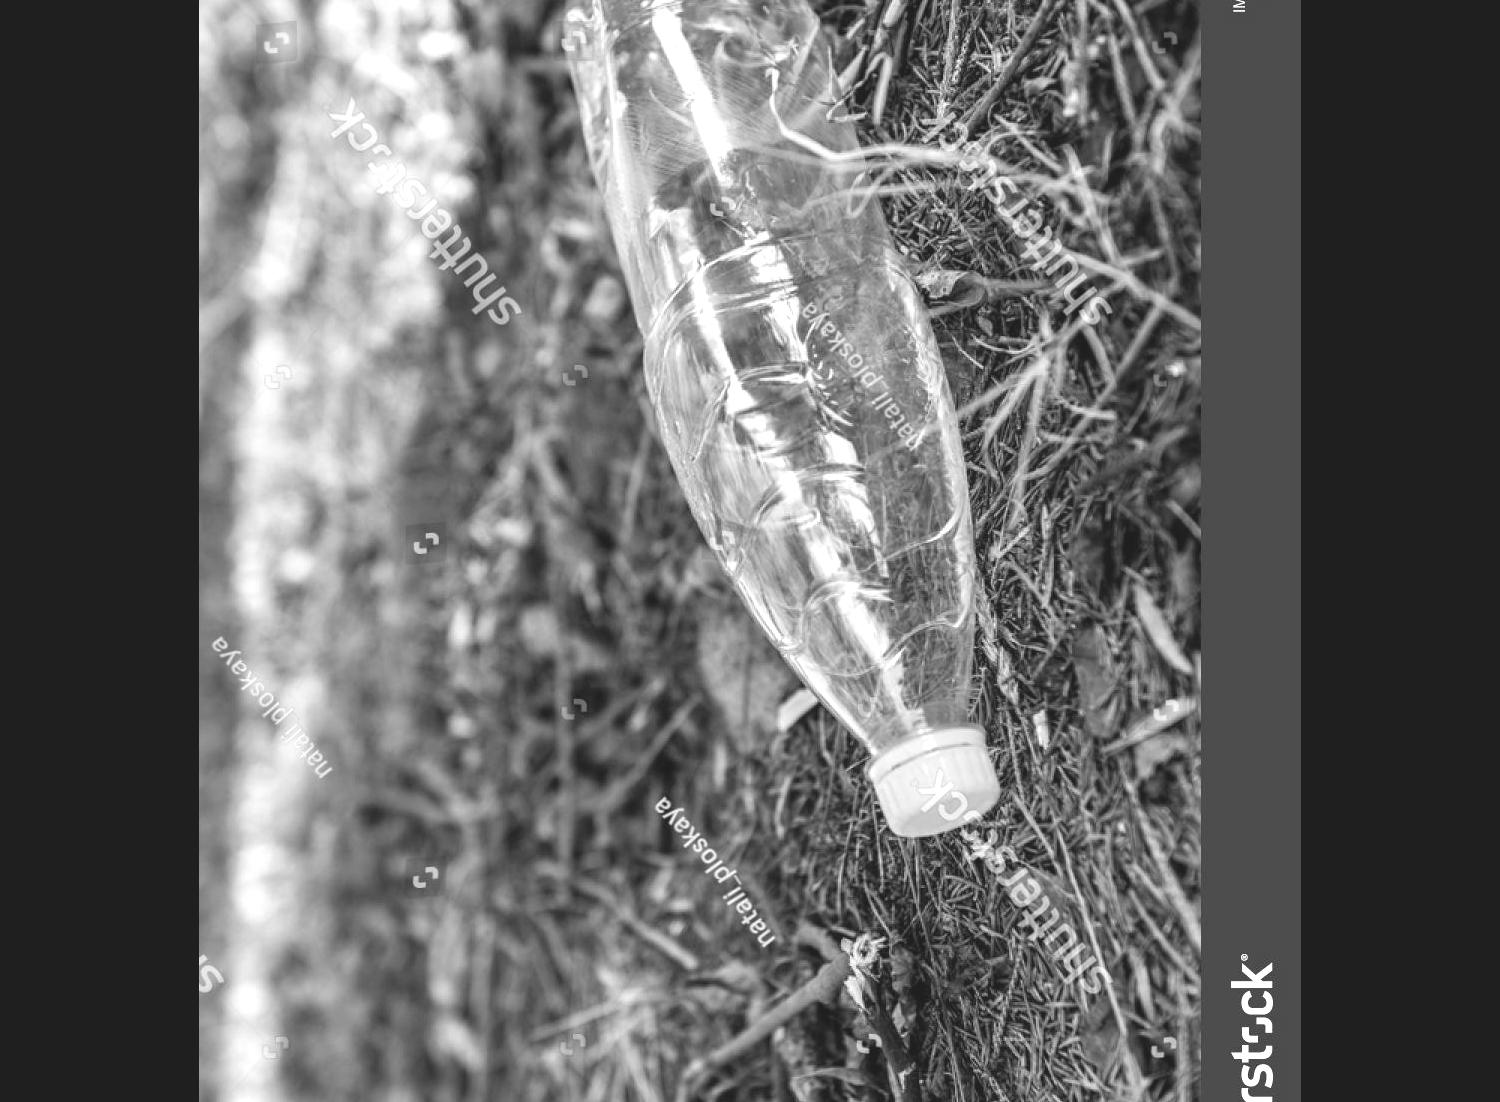bottle: (511, 0, 1030, 847)
